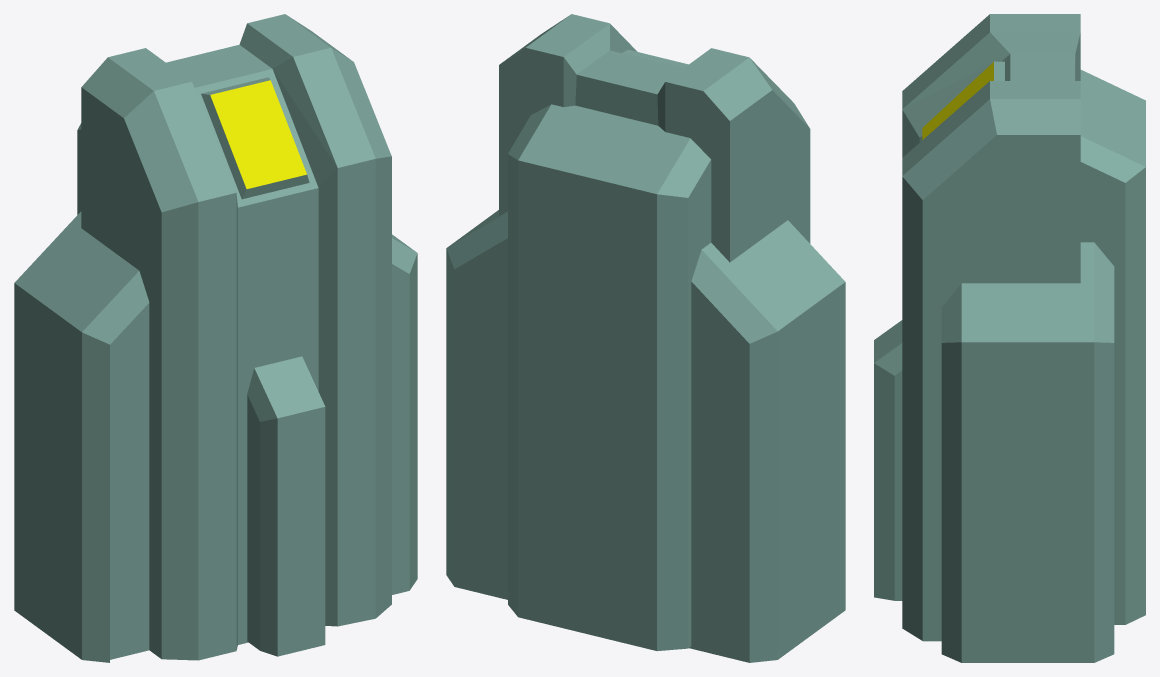
The model's file is ATLAS_LV_TOTEM.fbx.
The picture shows the model from 3 angles, left to right: view 1: azimuth 30°, elevation 25°; view 2: azimuth 150°, elevation 25°; view 3: azimuth 270°, elevation 25°; orthographic projection.
Parts seen in each view (by area): view 1: LV_TOTEM; view 2: LV_TOTEM; view 3: LV_TOTEM.
Boxes of the visible parts, x1=… form: LV_TOTEM: x1=14, y1=14, x2=417, y2=662; LV_TOTEM: x1=446, y1=14, x2=845, y2=662; LV_TOTEM: x1=874, y1=14, x2=1145, y2=662.
Size of the model in its own units: 72.59 by 112 by 52.19.
